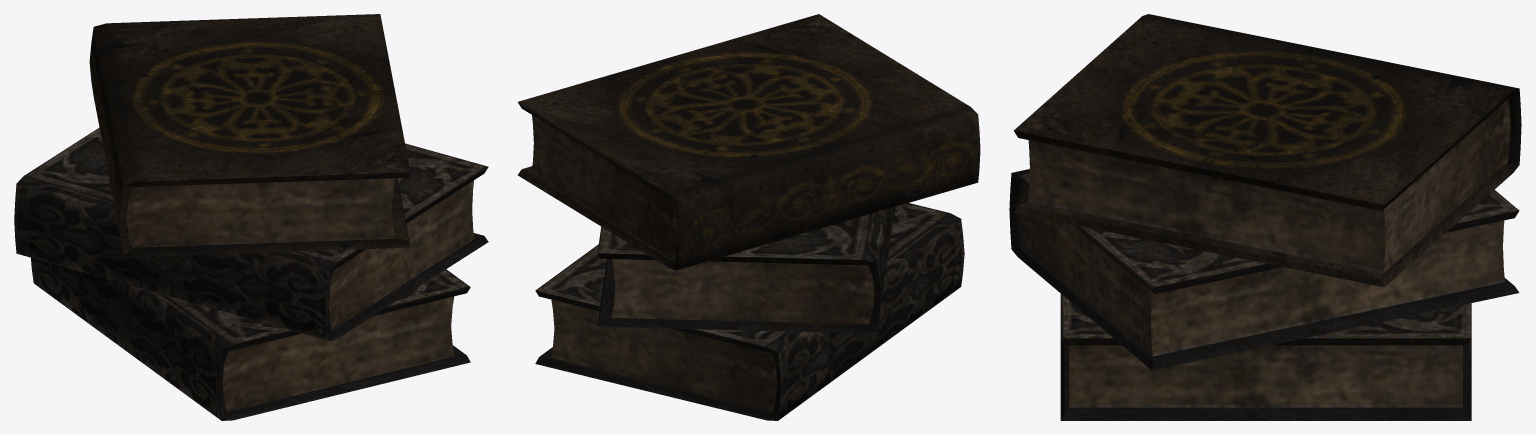
File: tome_pile01.dae
3 renders of one model, left to right at view 1: azimuth 30°, elevation 25°; view 2: azimuth 150°, elevation 25°; view 3: azimuth 270°, elevation 25°, orthographic. The views are drawn at different scales.
Visible parts, largest first — view 1: polySurface1; view 2: polySurface1; view 3: polySurface1.
Part boxes in pixels (x1=…): polySurface1: x1=14, y1=14, x2=488, y2=420; polySurface1: x1=518, y1=14, x2=980, y2=420; polySurface1: x1=1009, y1=14, x2=1521, y2=420.
Bounding box in the file's own units: 0.5147 × 0.2988 × 0.5621.
